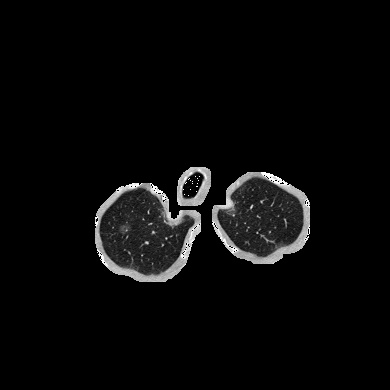PN: (118, 222, 130, 234)
